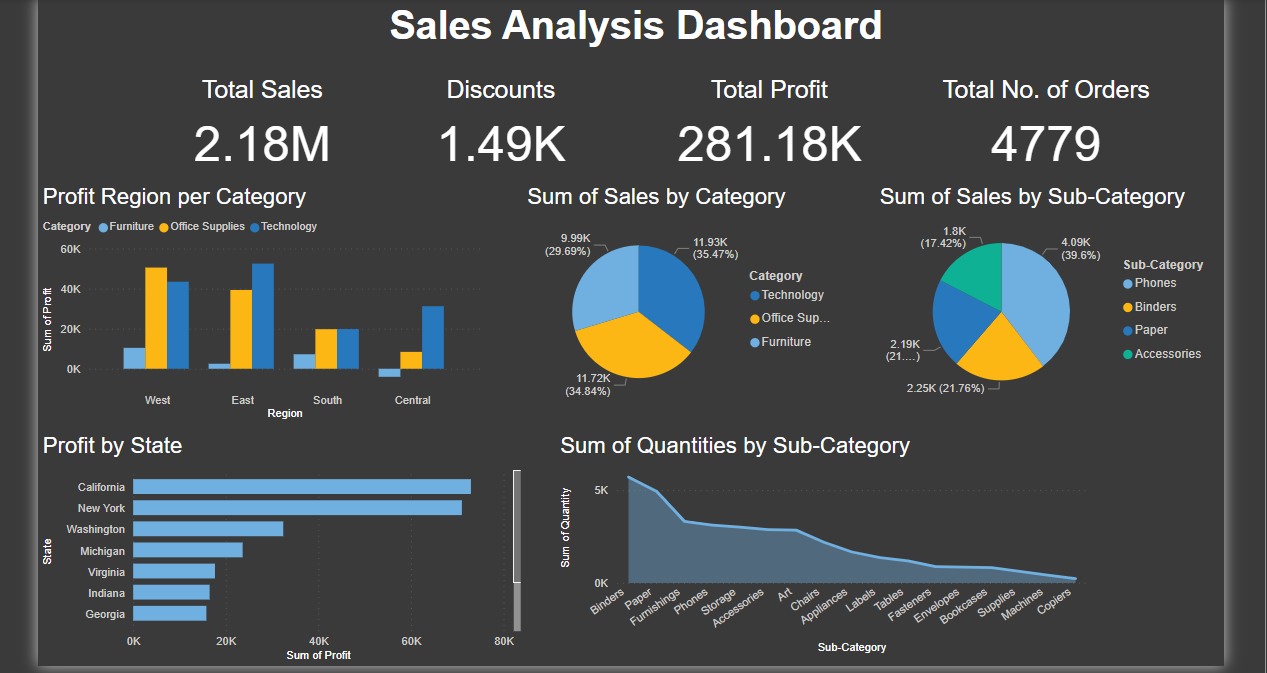

What the dashboard file says about the page in this screenshot:
{"tool":"powerbi","page":{"name":"Page 1","canvas":[1280,720],"ordinal":0},"visuals":[{"type":"textbox","box":[9.7,0,1270.1,69.6],"z":0},{"type":"card","title":"Total Sales","fields":{"Values":["Sum(Order.Sales)"]},"box":[114,84.1,257.3,108.4],"z":1000},{"type":"card","title":"Discounts","fields":{"Values":["Sum(Order.Discount)"]},"box":[370.5,84.1,257.3,108.4],"z":2000},{"type":"card","title":"Total Profit","fields":{"Values":["Sum(Order.Profit)"]},"box":[660.1,84.1,257.3,108.4],"z":3000},{"type":"clusteredColumnChart","title":"Profit Region per Category","fields":{"Category":["Order.Region"],"Y":["Sum(Order.Profit)"],"Series":["Order.Category"]},"box":[0,200.6,482.2,258.9],"z":4000},{"type":"pieChart","fields":{"Y":["Sum(Order.Sales)"],"Category":["Order.Category"]},"box":[522.6,200.6,352.7,247.6],"z":5000},{"type":"areaChart","title":"Sum of Quantities by Sub-Category","fields":{"Category":["Order.Sub-Category"],"Y":["Sum(Order.Quantity)"]},"box":[558.2,469.2,577.6,242.7],"z":6000},{"type":"clusteredBarChart","title":"Profit by State","fields":{"Y":["Sum(Order.Profit)"],"Category":["Order.State"]},"box":[0,469.2,525.8,250.8],"z":7000},{"type":"card","title":"Total No. of Orders","fields":{"Values":["Count(Order.Order ID)"]},"box":[933.6,84.1,307.4,108.4],"z":8000},{"type":"pieChart","fields":{"Y":["Sum(Order.Sales)"],"Category":["Order.Sub-Category"]},"box":[902.8,200.6,377,247.6],"z":8001}]}

Visuals, with their boxes in screenshot pixels (x1, y1, x2, y2):
textbox: [45, 16, 1216, 81]
"Total Sales" card: [141, 94, 379, 194]
"Discounts" card: [378, 94, 615, 194]
"Total Profit" card: [645, 94, 882, 194]
"Profit Region per Category" clusteredColumnChart: [36, 201, 481, 440]
pieChart - Sum(Order.Sales) x Order.Category: [518, 201, 843, 430]
"Sum of Quantities by Sub-Category" areaChart: [551, 449, 1083, 672]
"Profit by State" clusteredBarChart: [36, 449, 521, 672]
"Total No. of Orders" card: [897, 94, 1180, 194]
pieChart - Sum(Order.Sales) x Order.Sub-Category: [869, 201, 1216, 430]
